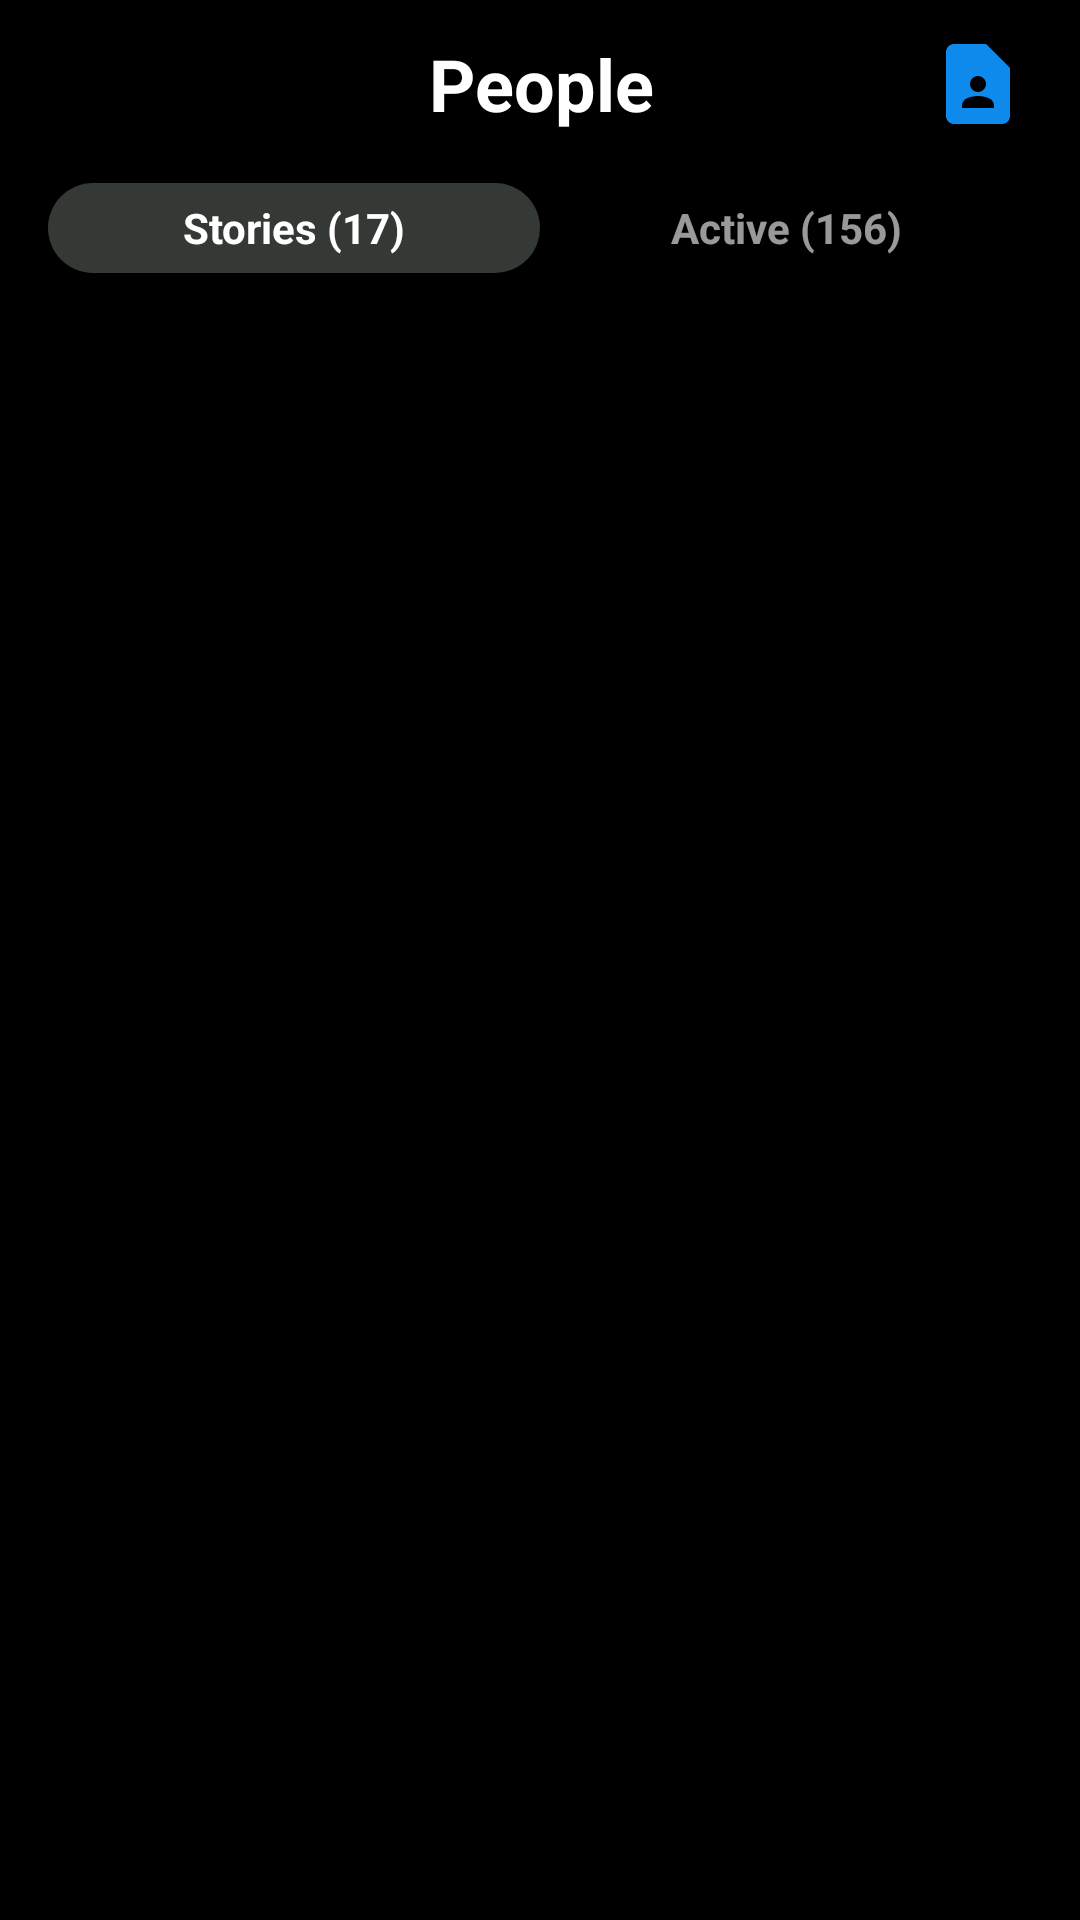

Where to tap for icons on this 1080 x 1920 app screen, as point (x, y):
contact page: point (978, 84)
